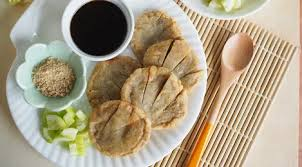Pempek kulit: (128, 63, 192, 133), (83, 97, 151, 157), (151, 34, 206, 87), (80, 50, 133, 103), (128, 4, 181, 47)
